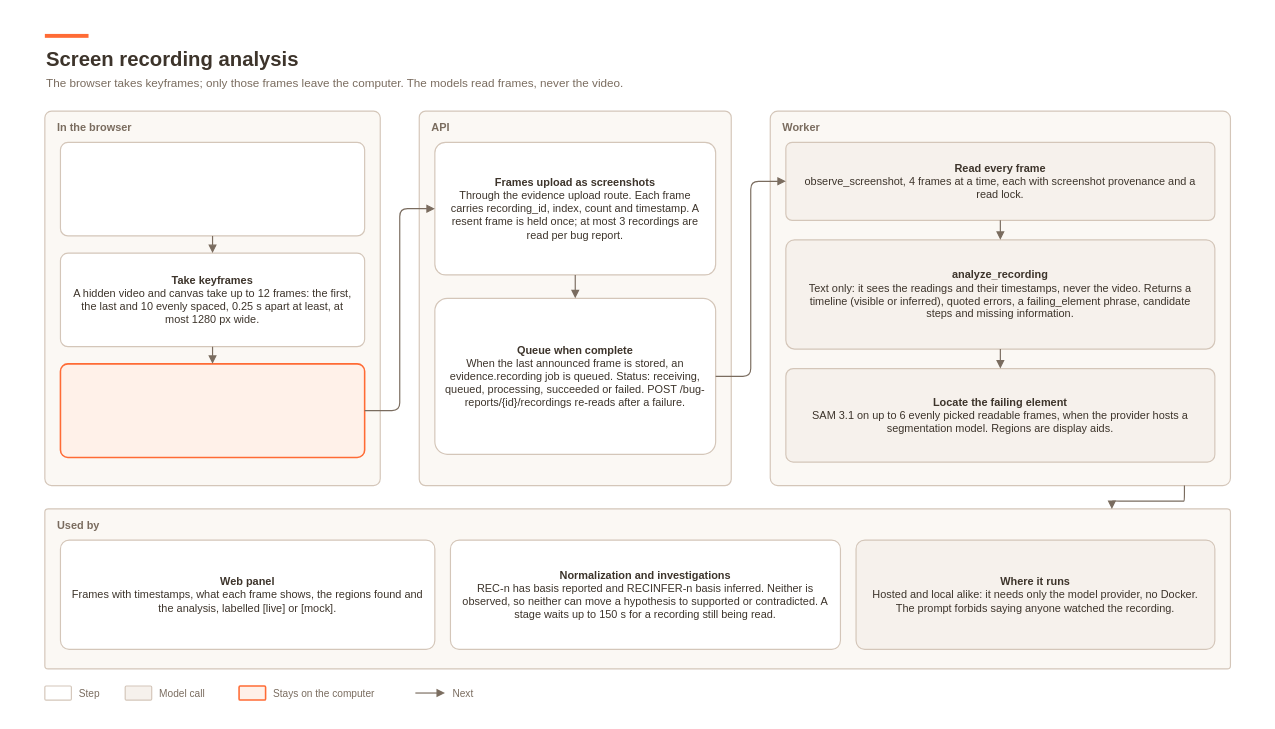
Image size: 1275x729. Some labels were removed from this diagram. Here are the shapes that lost their labels. From the top down, the centre of each, then its label:
(x=212, y=188): Pick a video WebM, MP4 or MOV, at most 200 MB and 300 s.
(x=212, y=410): Send only the frames The recording itself never leaves the computer.
